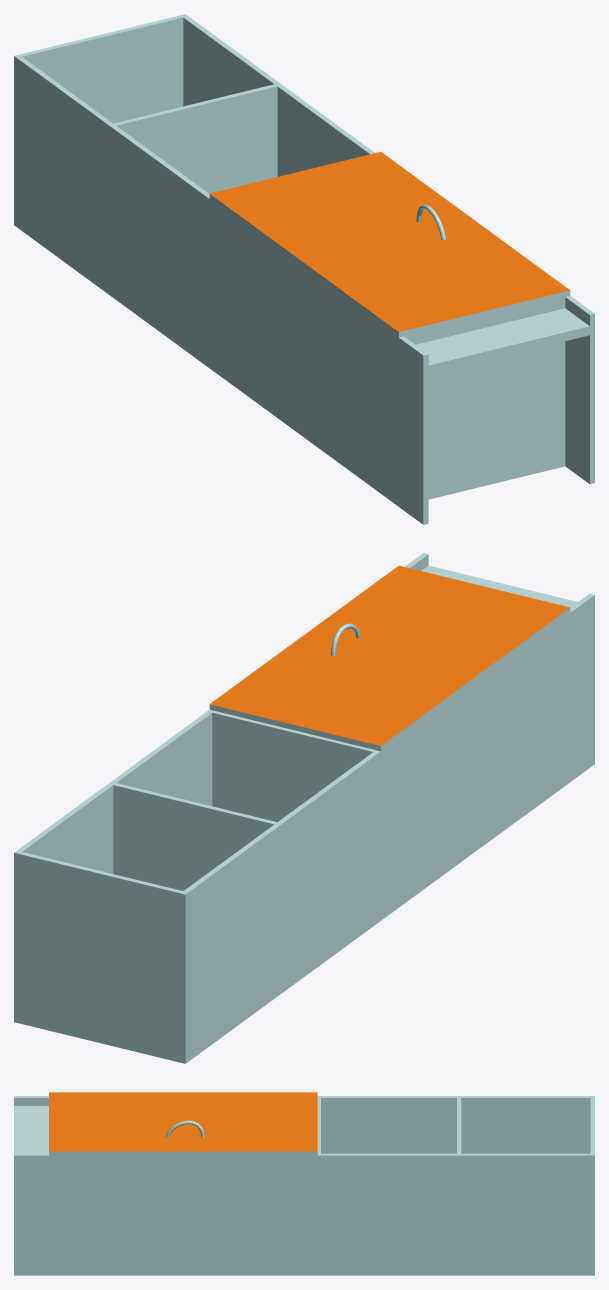
The model's file is Shelf_FR.dae.
The picture shows the model from 3 angles, top to bottom: view 1: azimuth 30°, elevation 25°; view 2: azimuth 150°, elevation 25°; view 3: azimuth 270°, elevation 25°; orthographic projection. The views are drawn at different scales.
Parts seen in each view (by area): view 1: node0; view 2: node0; view 3: node0.
Part boxes in pixels (x1,y1,x2,y2): node0: [14, 14, 594, 524]; node0: [14, 553, 594, 1063]; node0: [14, 1092, 594, 1275].
Size of the model in its own units: 0.3985 by 1.65 by 0.4377.
